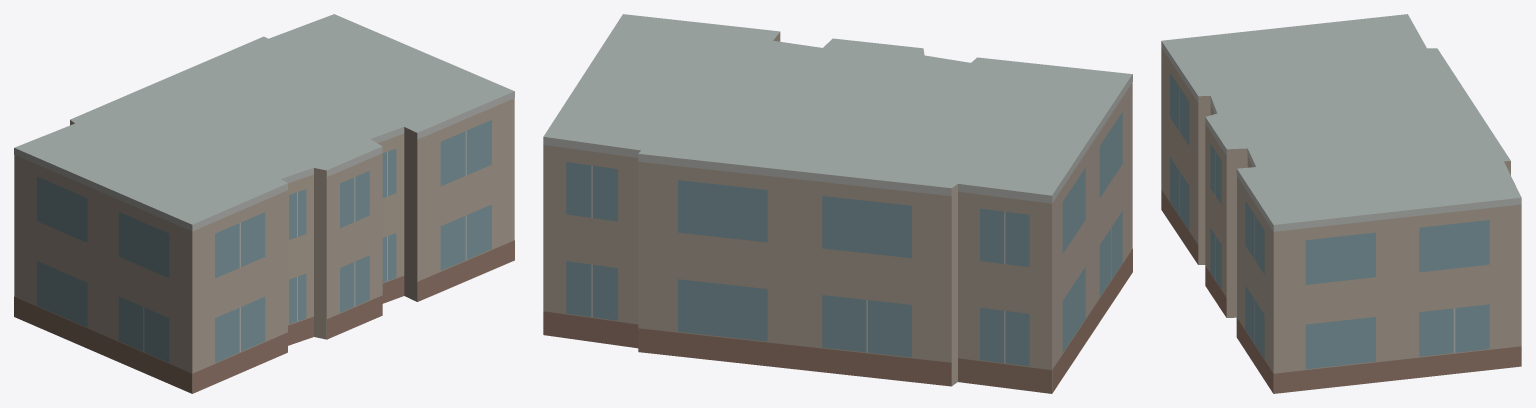
Rendered from survey-upis-32624095.glb.
The picture shows the model from 3 angles, left to right: view 1: azimuth 30°, elevation 25°; view 2: azimuth 150°, elevation 25°; view 3: azimuth 270°, elevation 25°; orthographic projection. The views are drawn at different scales.
Visible parts, largest first — view 1: survey-upis-32624095.tmp; view 2: survey-upis-32624095.tmp; view 3: survey-upis-32624095.tmp.
Part boxes in pixels (box(x1,y1,x2,y2)): survey-upis-32624095.tmp: box(14, 14, 514, 393); survey-upis-32624095.tmp: box(543, 14, 1132, 393); survey-upis-32624095.tmp: box(1161, 14, 1521, 393).
Bounding box in the file's own units: 16.37 × 6.1 × 11.81.
